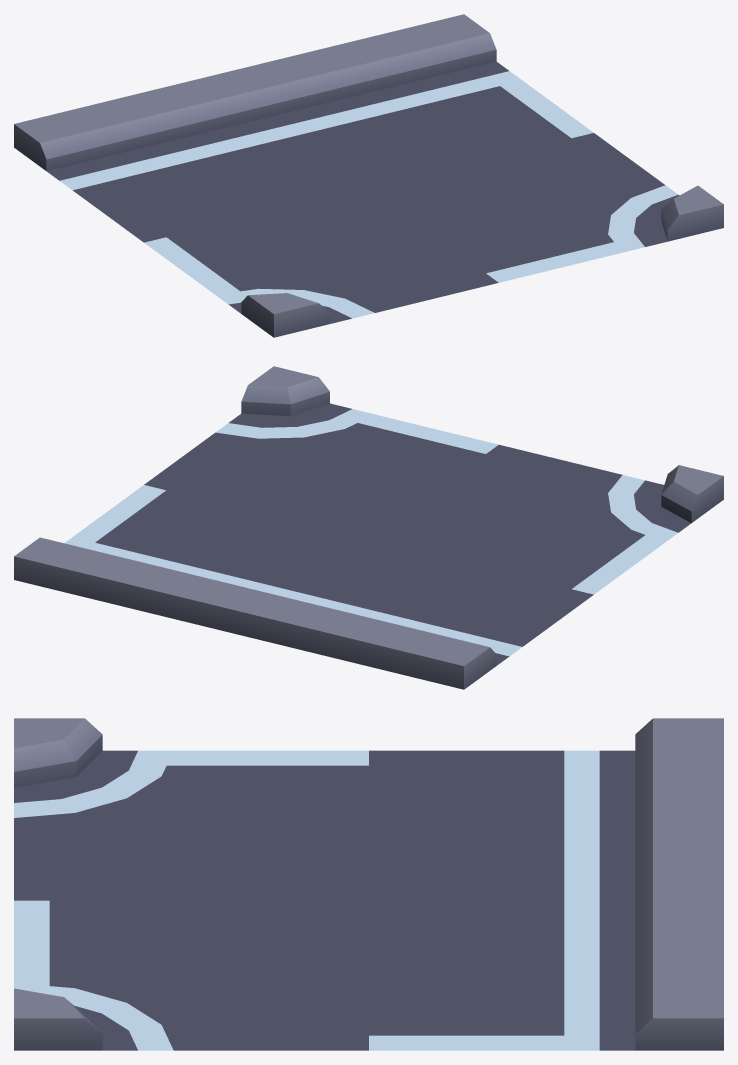
File: road-split.glb
The picture shows the model from 3 angles, top to bottom: view 1: azimuth 30°, elevation 25°; view 2: azimuth 150°, elevation 25°; view 3: azimuth 270°, elevation 25°; orthographic projection. The views are drawn at different scales.
Visible parts, largest first — view 1: road-split; view 2: road-split; view 3: road-split.
Boxes of the visible parts, box(x1,y1,x2,y2) form: road-split: box(14, 14, 723, 337); road-split: box(14, 366, 723, 689); road-split: box(14, 718, 723, 1050).
Bounding box in the file's own units: 1 × 0.05 × 1.
1 material, 1 textured.
